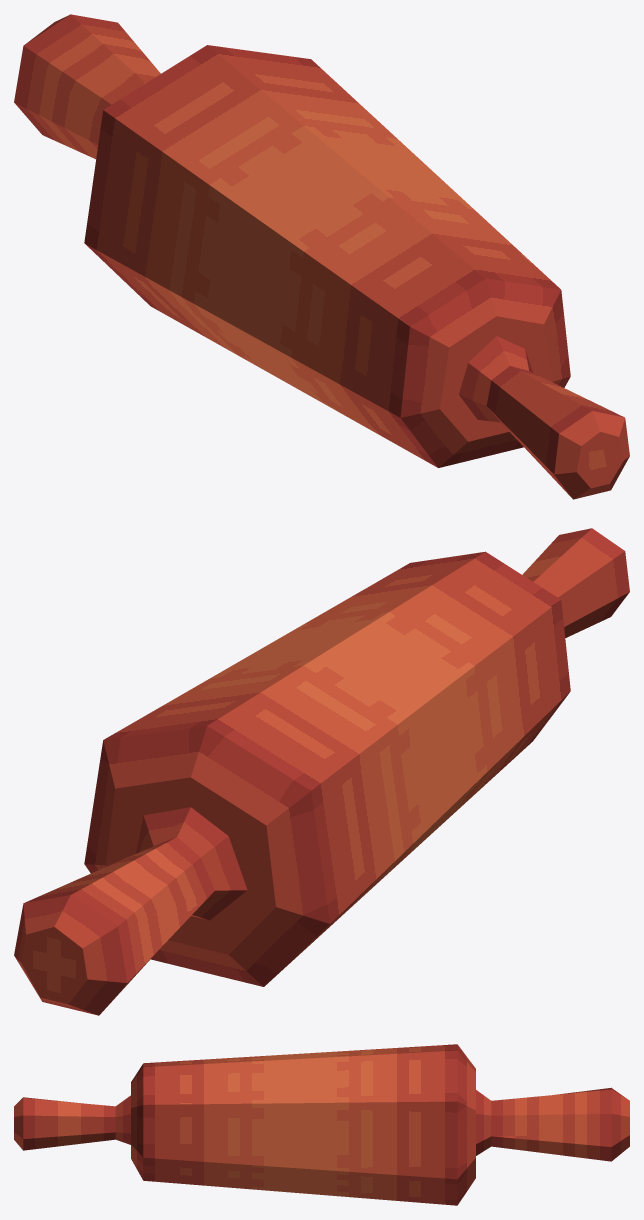
The model's file is rolling_pin.obj.
3 renders of one model, top to bottom at view 1: azimuth 30°, elevation 25°; view 2: azimuth 150°, elevation 25°; view 3: azimuth 270°, elevation 25°, orthographic. The views are drawn at different scales.
Visible parts, largest first — view 1: rolling_pin; view 2: rolling_pin; view 3: rolling_pin.
Part boxes in pixels (x1,y1,x2,y2): rolling_pin: (14, 14, 629, 499); rolling_pin: (14, 528, 629, 1015); rolling_pin: (14, 1044, 629, 1205).
Bounding box in the file's own units: 0.8125 × 0.7812 × 3.12.
Materials: 1 (1 with a texture image).
